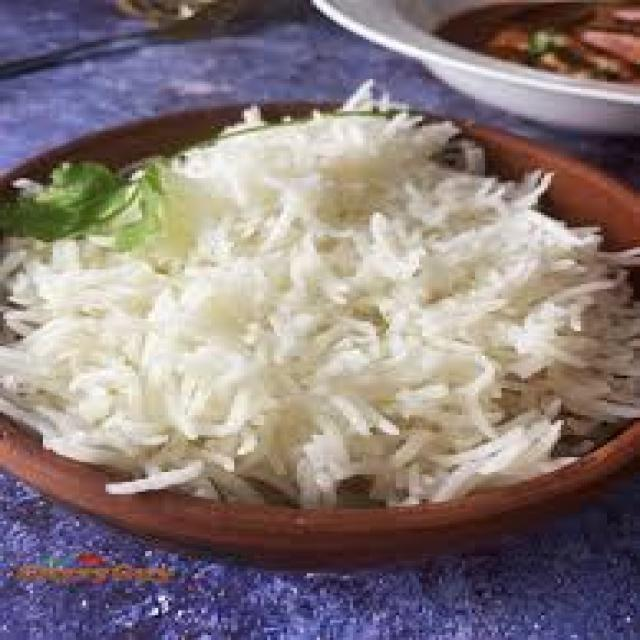White Rice: (0, 106, 640, 551)
